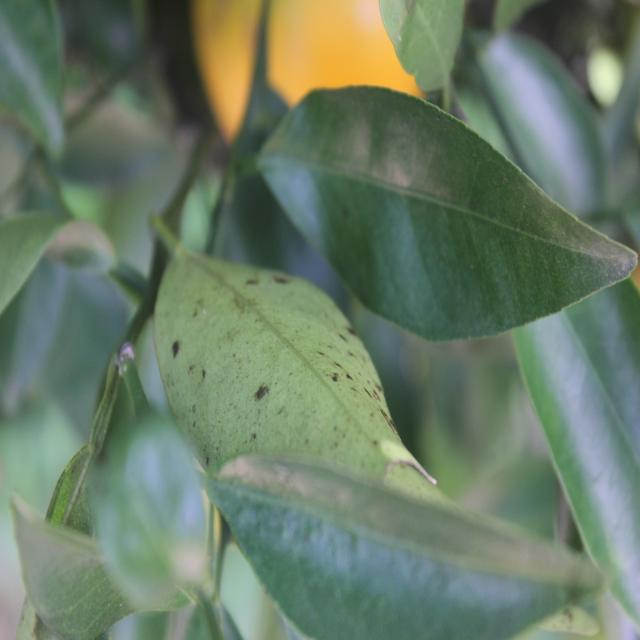melanose: (156, 238, 412, 506)
